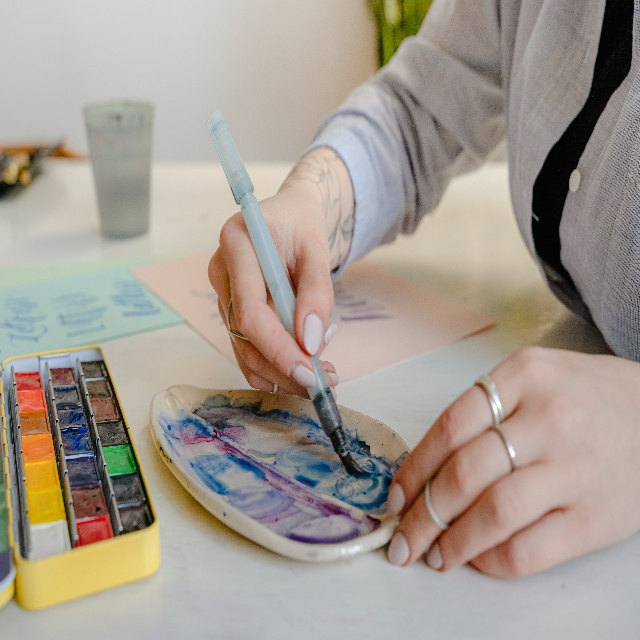Sin_guantes: (384, 343, 640, 585), (204, 193, 344, 411)
